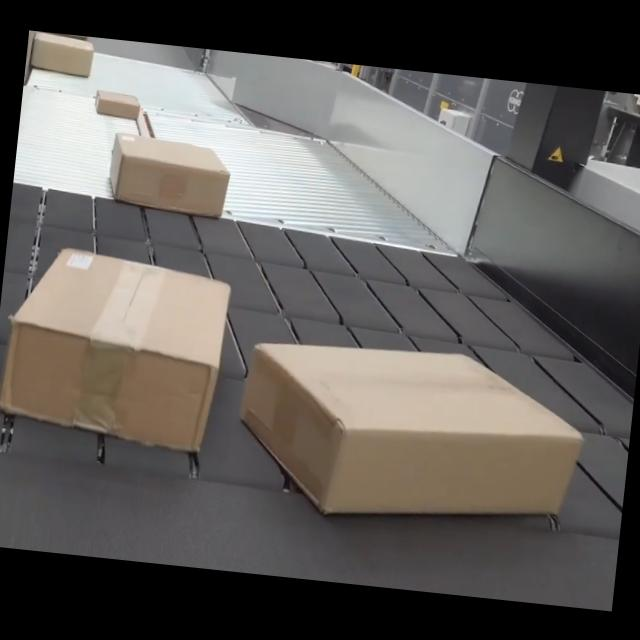box: (234, 326, 592, 534), (0, 241, 233, 446), (106, 132, 230, 212), (27, 32, 94, 73), (93, 88, 142, 119)
